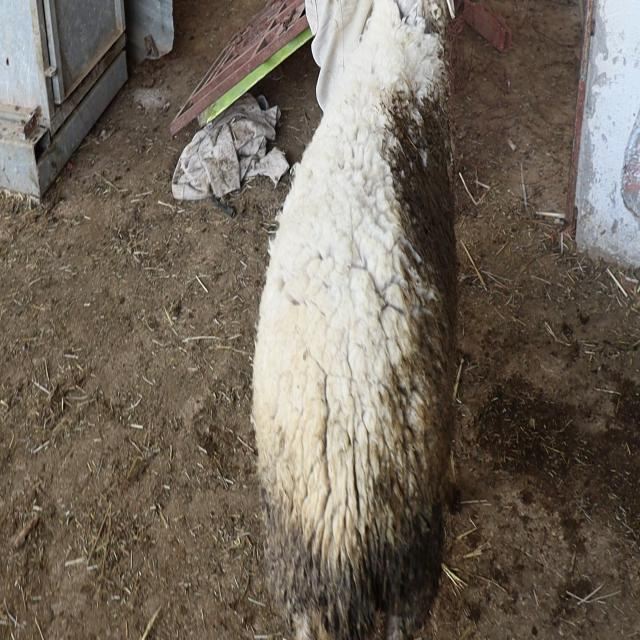Score_4: (251, 0, 457, 639)
